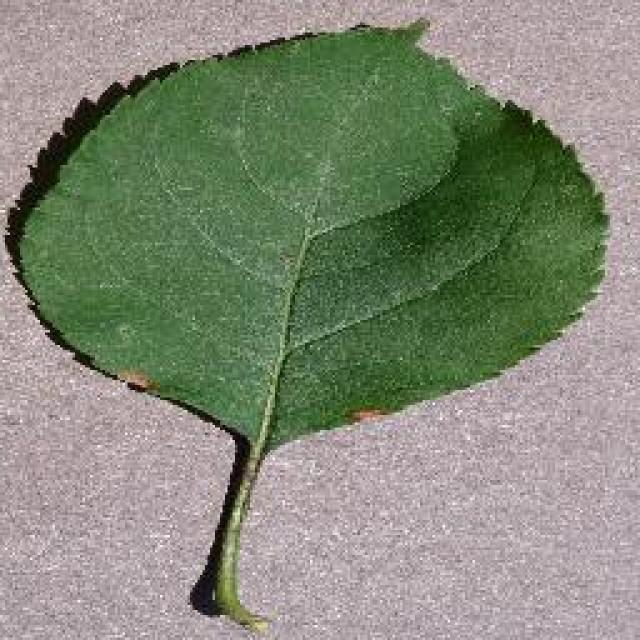Black_rot: (2, 15, 610, 635)
